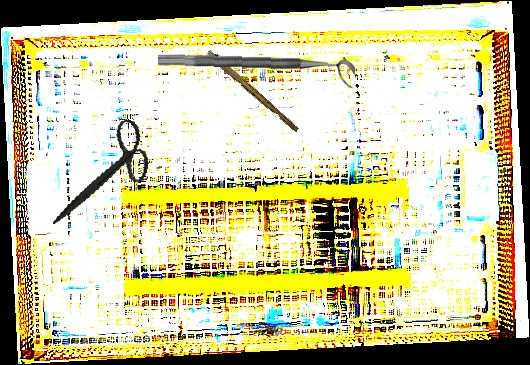Fixation Ring: (157, 52, 356, 90)
Iris Scissors: (52, 108, 158, 242)
Scalpel Handle: (204, 49, 301, 134)
